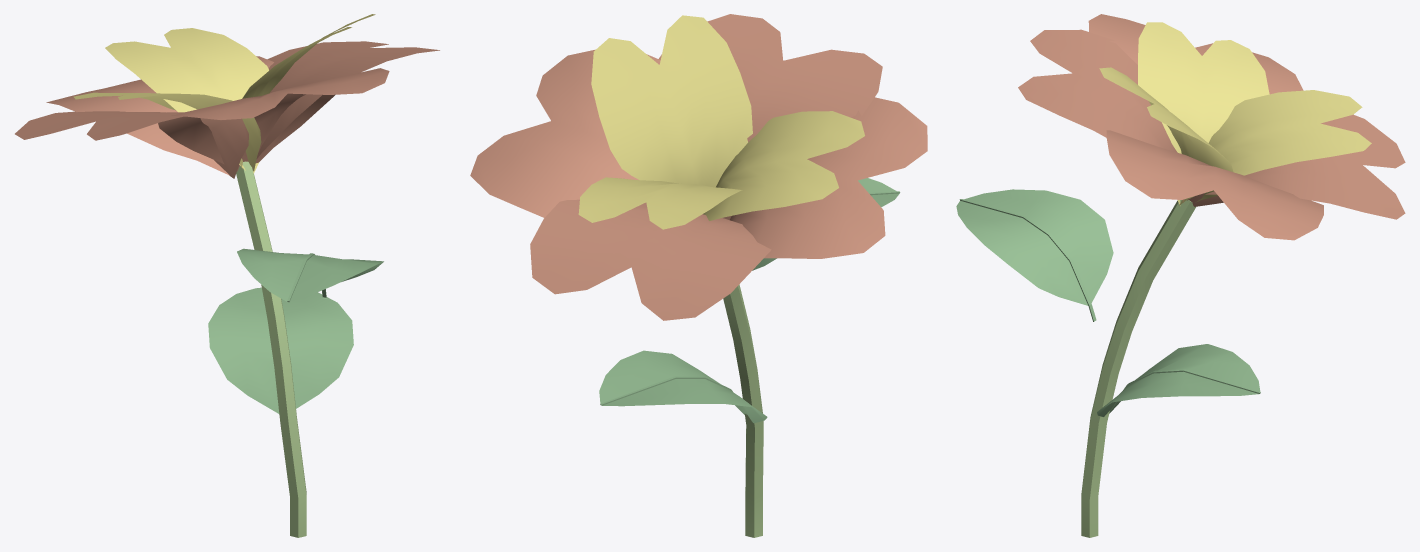
Rendered from flower4.fbx.
3 views of the same model, side by side, from view 1: azimuth 30°, elevation 25°; view 2: azimuth 150°, elevation 25°; view 3: azimuth 270°, elevation 25° (orthographic). The views are drawn at different scales.
Parts seen in each view (by area): view 1: pPlane35, pPlane33, pPlane30, pCylinder25, pPlane29, pPlane31, pPlane36, pPlane28, pPlane32, pPlane34; view 2: pPlane34, pPlane28, pPlane29, pPlane31, pPlane30, pPlane32, pPlane35, pPlane33, pCylinder25, pPlane36; view 3: pPlane36, pPlane32, pPlane29, pPlane30, pPlane33, pPlane28, pCylinder25, pPlane35, pPlane31, pPlane34.
Boxes of the visible parts, x1,y1,x2,y2 form: pPlane35: (208, 287, 353, 413); pPlane33: (105, 28, 268, 173); pPlane30: (158, 68, 389, 171); pCylinder25: (236, 161, 306, 537); pPlane29: (256, 41, 439, 158); pPlane31: (15, 111, 248, 178); pPlane36: (237, 248, 383, 302); pPlane28: (46, 56, 273, 175); pPlane32: (73, 92, 261, 171); pPlane34: (239, 14, 375, 168); pPlane34: (591, 15, 752, 187); pPlane28: (530, 199, 771, 320); pPlane29: (470, 49, 660, 217); pPlane31: (730, 97, 927, 258); pPlane30: (658, 14, 882, 219); pPlane32: (703, 111, 864, 220); pPlane35: (599, 350, 767, 423); pPlane33: (578, 177, 742, 229); pCylinder25: (723, 284, 763, 537); pPlane36: (752, 178, 900, 270); pPlane36: (956, 189, 1113, 321); pPlane32: (1138, 22, 1269, 205); pPlane29: (1106, 130, 1323, 240); pPlane30: (1018, 29, 1184, 203); pPlane33: (1179, 90, 1371, 205); pPlane28: (1205, 114, 1405, 219); pCylinder25: (1081, 200, 1195, 537); pPlane35: (1097, 344, 1260, 416); pPlane31: (1088, 14, 1303, 94); pPlane34: (1099, 67, 1233, 202).
Size of the model in its own units: 0.7301 by 0.9003 by 0.753.
